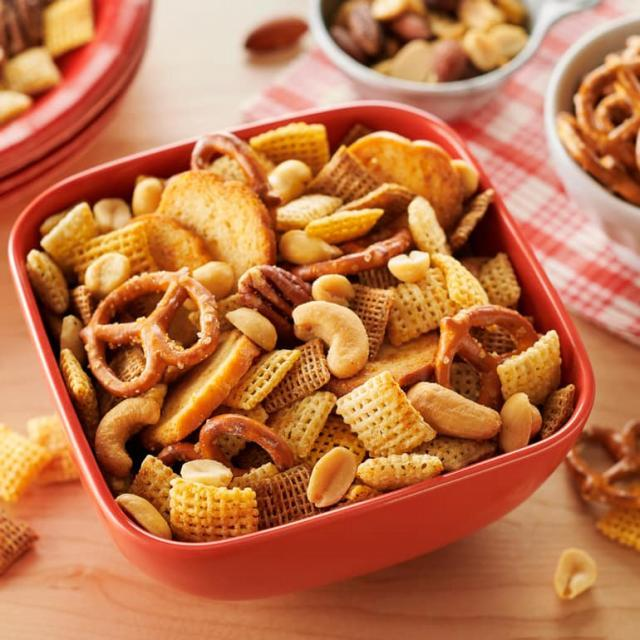Salatini: (54, 110, 575, 527)
